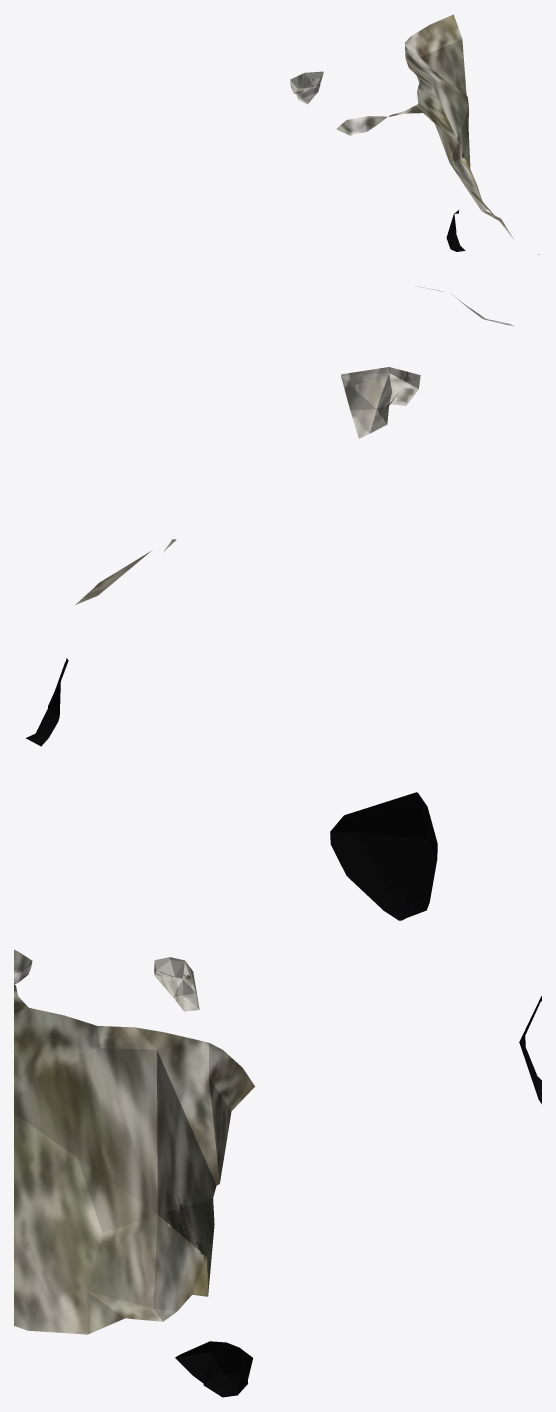
3 renders of one model, top to bottom at view 1: azimuth 30°, elevation 25°; view 2: azimuth 150°, elevation 25°; view 3: azimuth 270°, elevation 25°, orthographic. The views are drawn at different scales.
Bounding box in the file's own units: 2.95 × 1.92 × 2.95.
1 material, 1 textured.
